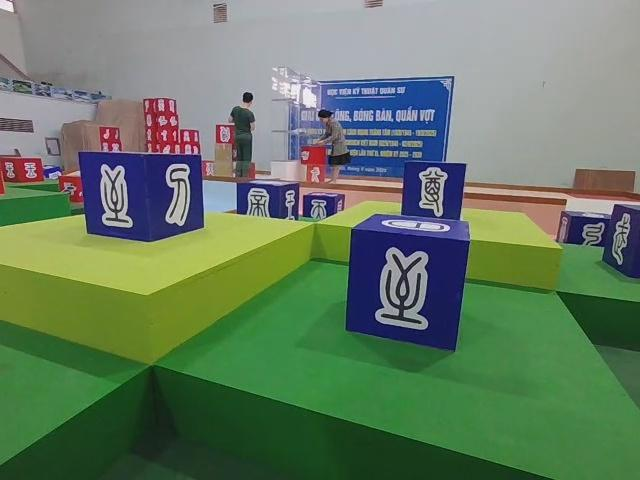R2 Fake Blue: (348, 213, 472, 354), (79, 153, 204, 246), (400, 159, 466, 221), (605, 201, 640, 282), (239, 182, 300, 222), (555, 209, 612, 247), (305, 192, 347, 220)
